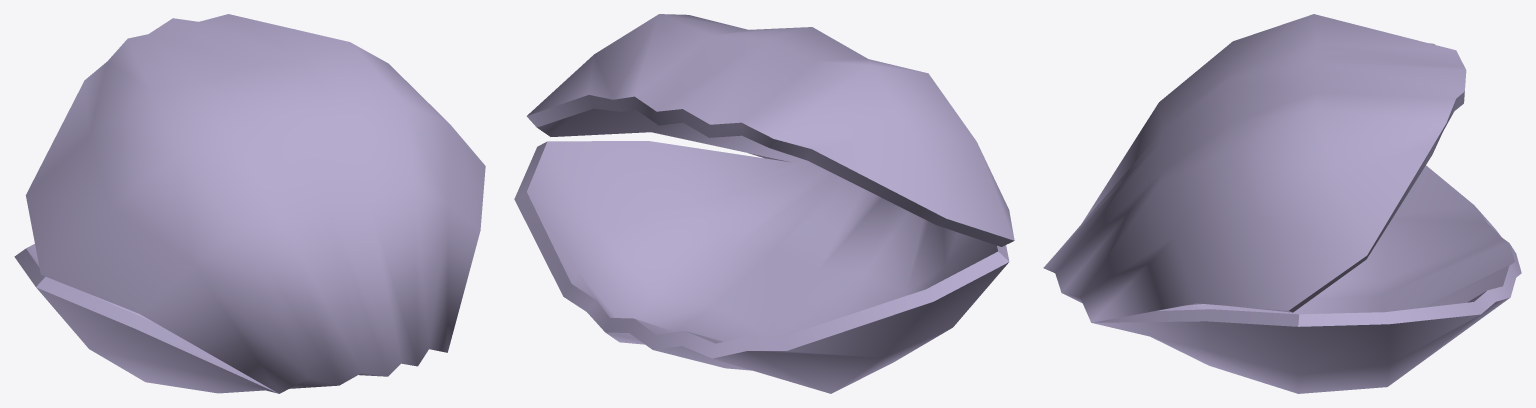
File: CoquillageVersion2.fbx
The picture shows the model from 3 angles, left to right: view 1: azimuth 30°, elevation 25°; view 2: azimuth 150°, elevation 25°; view 3: azimuth 270°, elevation 25°; orthographic projection. The views are drawn at different scales.
Visible parts, largest first — view 1: Plane001; view 2: Plane001; view 3: Plane001.
Boxes of the visible parts, x1=… form: Plane001: x1=14, y1=14, x2=485, y2=393; Plane001: x1=514, y1=14, x2=1014, y2=393; Plane001: x1=1043, y1=14, x2=1521, y2=393.
Bounding box in the file's own units: 6 × 3.84 × 5.69.
